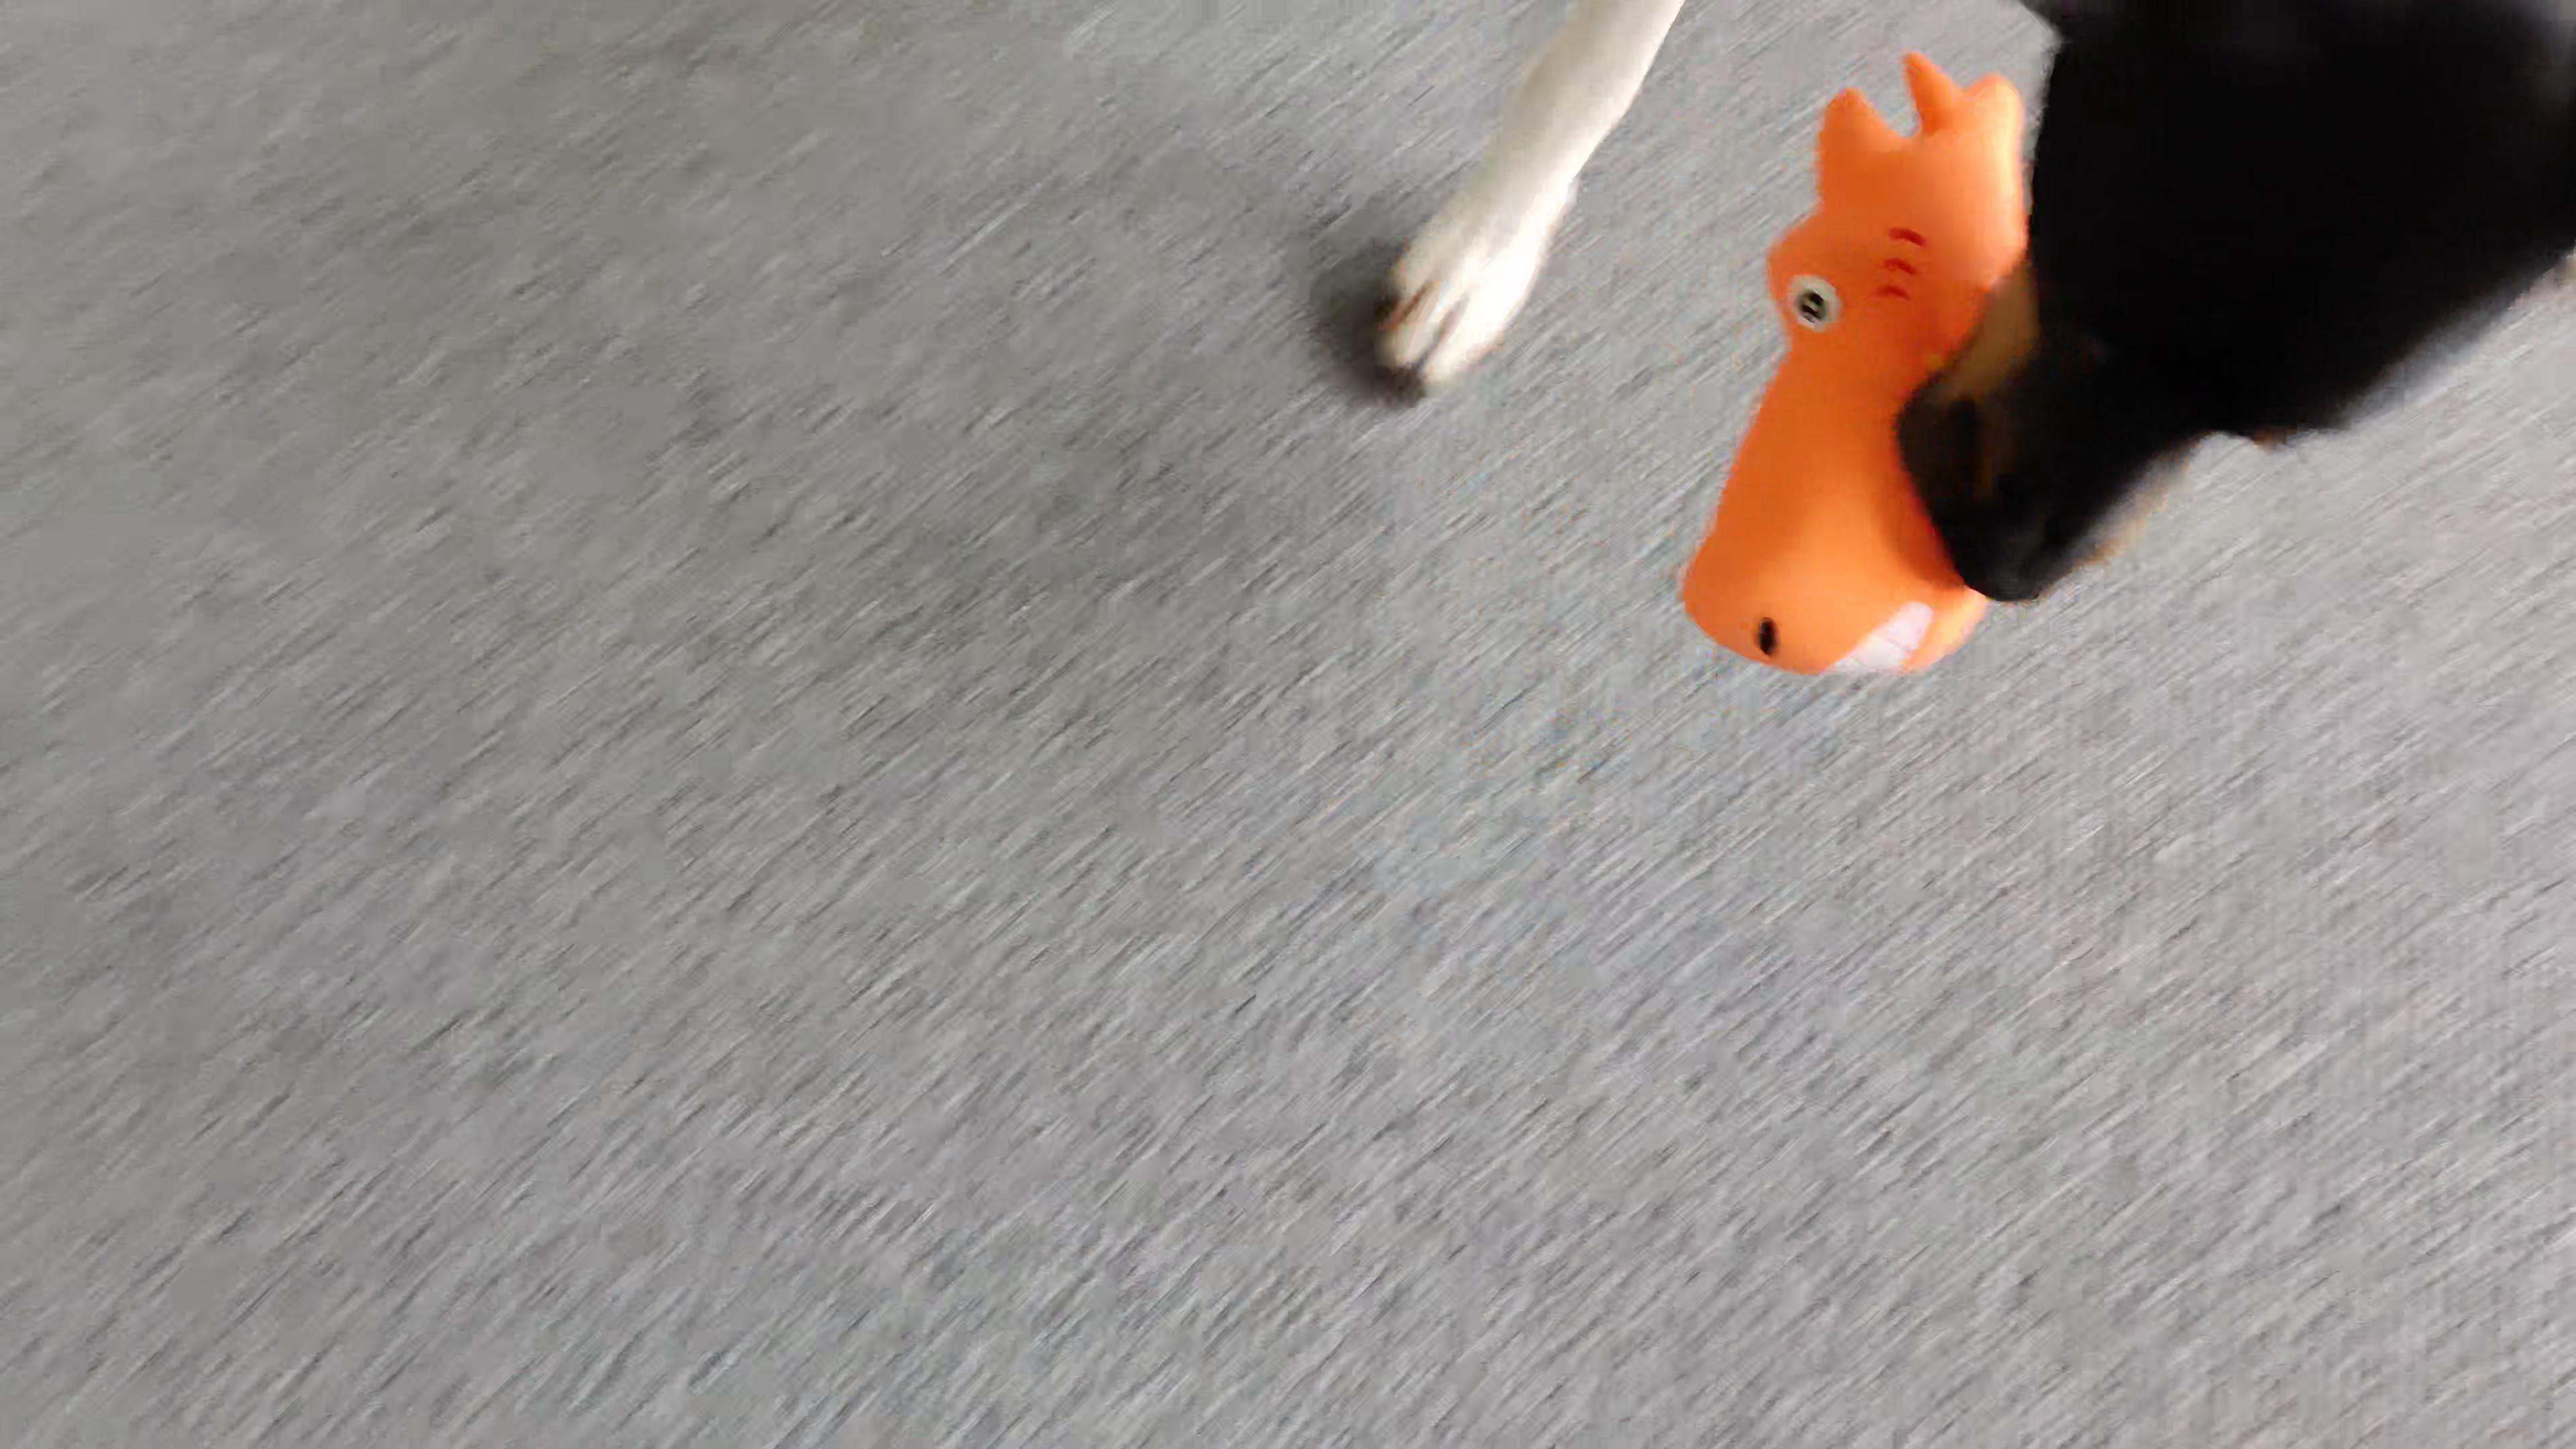Dog: (1346, 0, 2576, 614)
